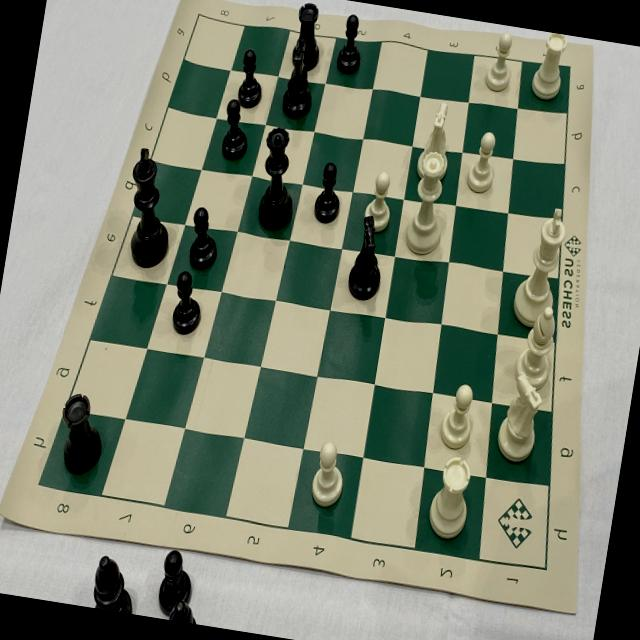black-king: (116, 140, 192, 274)
black-knight: (340, 212, 394, 308), (278, 34, 321, 121)
black-pawn: (183, 203, 226, 274), (167, 268, 209, 340), (310, 158, 352, 228), (332, 9, 371, 79), (216, 95, 254, 166), (232, 42, 270, 112)
black-queen: (250, 122, 310, 238)
black-rook: (51, 384, 111, 478), (285, 0, 330, 74)
white-bishop: (422, 452, 478, 547), (510, 300, 566, 394)
white-king: (506, 200, 576, 336)
white-knight: (491, 368, 552, 466), (413, 94, 460, 184)
white-pawn: (432, 378, 486, 457), (305, 432, 357, 512), (462, 124, 506, 198), (480, 26, 522, 97), (360, 167, 400, 238)
white-queen: (396, 148, 462, 262)
white-rook: (526, 30, 576, 106)
